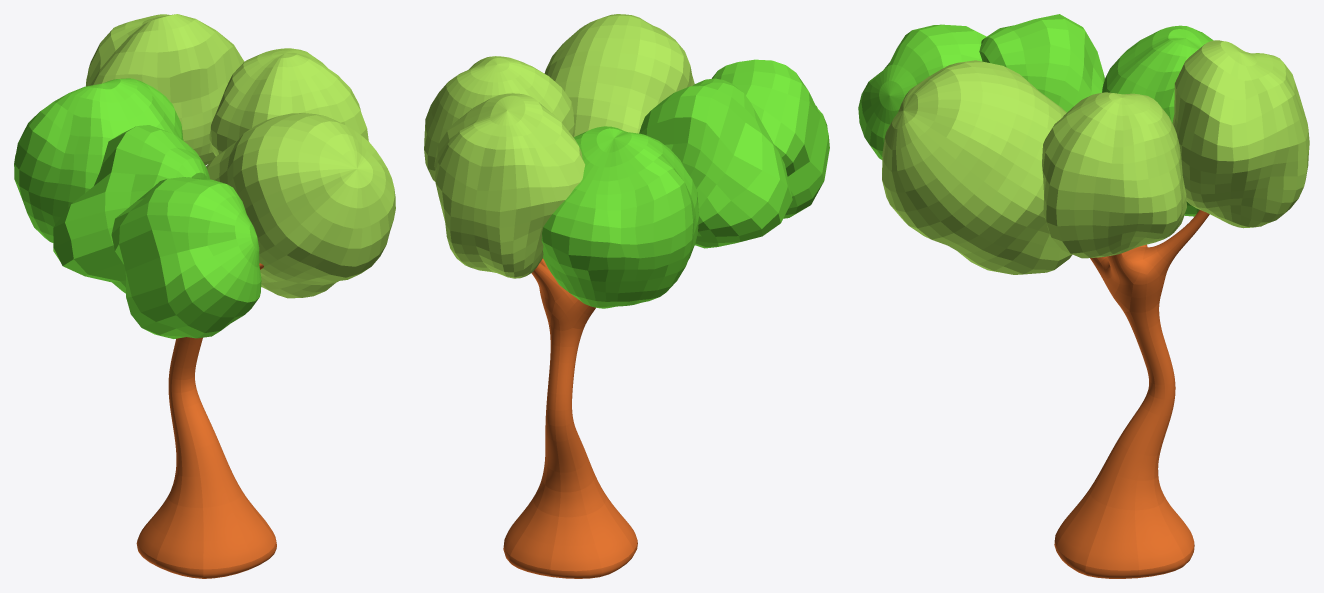
Rendered from Arvore_viva_3.fbx.
3 views of the same model, side by side, from view 1: azimuth 30°, elevation 25°; view 2: azimuth 150°, elevation 25°; view 3: azimuth 270°, elevation 25° (orthographic). The views are drawn at different scales.
Visible parts, largest first — view 1: Sphere.004, Sphere.003, Vert, Sphere.002, Sphere.006, Sphere.005, Sphere; view 2: Sphere.002, Sphere.006, Vert, Sphere.005, Sphere.004, Sphere.003, Sphere; view 3: Sphere.004, Vert, Sphere.006, Sphere, Sphere.005, Sphere.003, Sphere.002.
Boxes of the visible parts, <box> form: Sphere.004: <box>206,113,395,298</box>; Sphere.003: <box>111,177,261,338</box>; Vert: <box>136,263,276,578</box>; Sphere.002: <box>14,78,183,242</box>; Sphere.006: <box>86,14,244,165</box>; Sphere.005: <box>53,125,209,293</box>; Sphere: <box>209,48,368,156</box>; Sphere.002: <box>541,126,699,308</box>; Sphere.006: <box>434,93,585,278</box>; Vert: <box>503,258,637,578</box>; Sphere.005: <box>639,78,792,248</box>; Sphere.004: <box>544,14,694,137</box>; Sphere.003: <box>711,59,829,218</box>; Sphere: <box>424,56,574,181</box>; Sphere.004: <box>882,60,1072,274</box>; Vert: <box>1054,210,1209,578</box>; Sphere.006: <box>1172,40,1309,228</box>; Sphere: <box>1042,92,1186,258</box>; Sphere.005: <box>979,14,1104,112</box>; Sphere.003: <box>858,24,986,159</box>; Sphere.002: <box>1102,25,1213,216</box>.
Size of the model in its own units: 1296 by 1923 by 1517.
